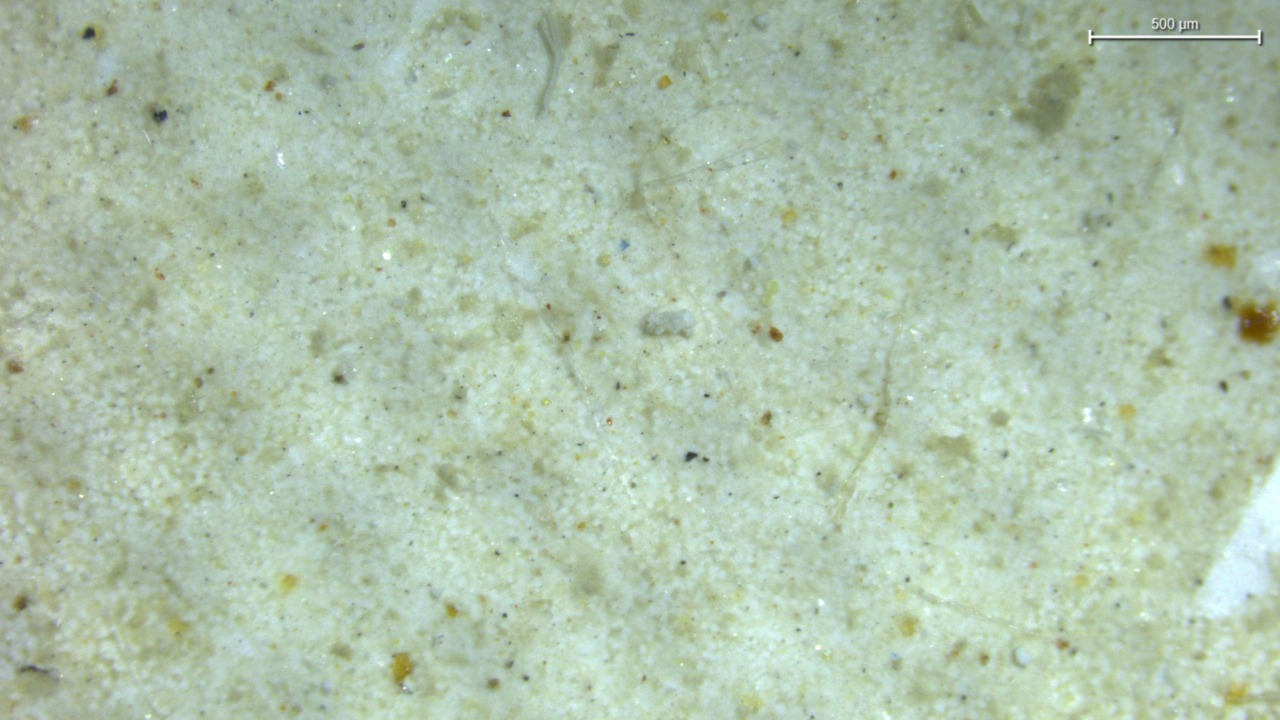microplastic_fragment: (641, 308, 696, 336)
